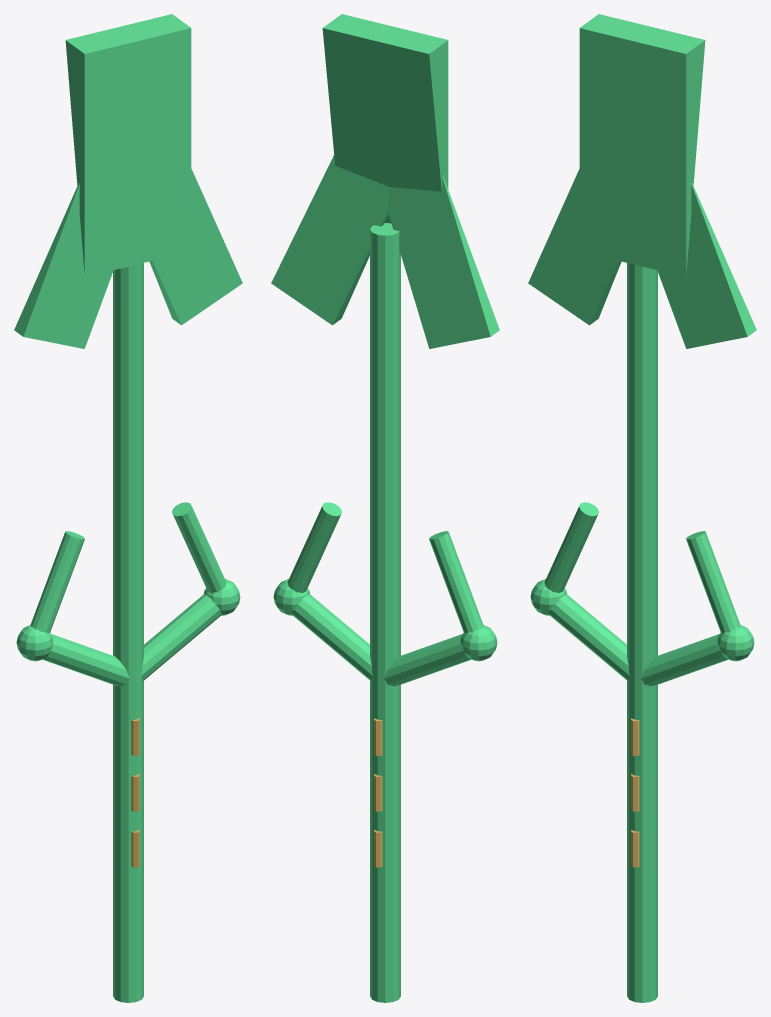
File: WindWeapon.obj
3 renders of one model, left to right at view 1: azimuth 30°, elevation 25°; view 2: azimuth 150°, elevation 25°; view 3: azimuth 330°, elevation 25°, orthographic.
Visible parts, largest first — view 1: WindWeapon; view 2: WindWeapon; view 3: WindWeapon.
Part boxes in pixels (<box>): WindWeapon: <box>14,14,242,1002</box>; WindWeapon: <box>271,14,499,1002</box>; WindWeapon: <box>528,14,756,1002</box>.
Size of the model in its own units: 1.65 by 6.9 by 0.25.
